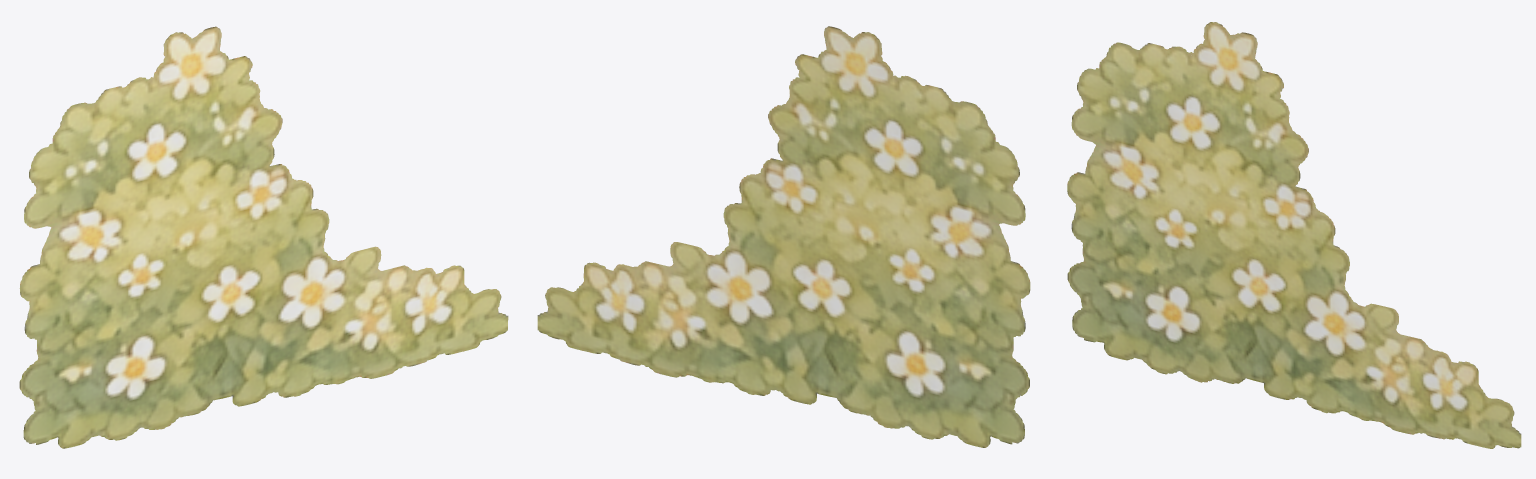
File: garden_bush.glb
3 views of the same model, side by side, from view 1: azimuth 30°, elevation 25°; view 2: azimuth 150°, elevation 25°; view 3: azimuth 330°, elevation 25° (orthographic). The views are drawn at different scales.
Parts seen in each view (by area): view 1: bush / painted relief; view 2: bush / painted relief; view 3: bush / painted relief.
Boxes of the visible parts, x1,y1,x2,y2 form: bush / painted relief: (19, 26, 508, 448); bush / painted relief: (537, 26, 1030, 447); bush / painted relief: (1067, 22, 1521, 448).
Bounding box in the file's own units: 4.79 × 3.74 × 0.0798.
Materials: 1 (1 with a texture image).
